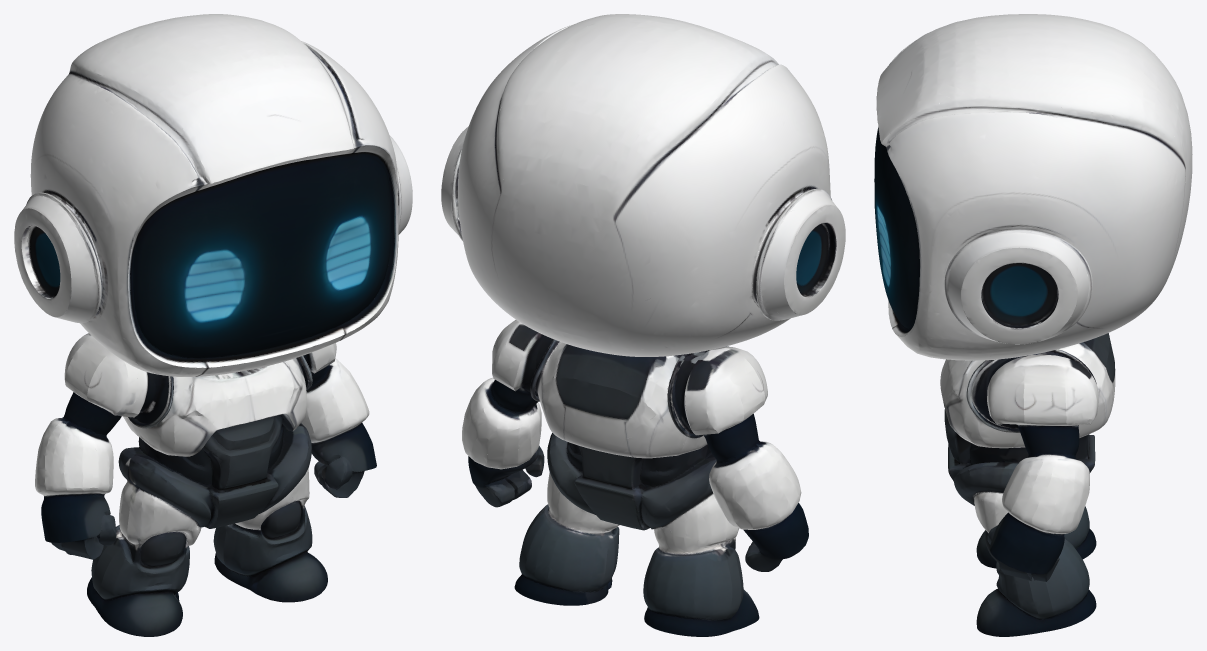
Rendered from newmodelmiko.glb.
3 renders of one model, left to right at view 1: azimuth 30°, elevation 25°; view 2: azimuth 150°, elevation 25°; view 3: azimuth 270°, elevation 25°, orthographic. The views are drawn at different scales.
Visible parts, largest first — view 1: Object_2, Object_3; view 2: Object_2, Object_3; view 3: Object_2, Object_3.
Part boxes in pixels (<box>): Object_2: <box>74,14,412,624</box>; Object_3: <box>14,23,398,636</box>; Object_2: <box>441,14,776,636</box>; Object_3: <box>452,21,845,636</box>; Object_2: <box>874,14,1192,636</box>; Object_3: <box>878,14,1187,590</box>.
Size of the model in its own units: 1.22 by 1.9 by 0.9838.
1 material, 1 textured.
